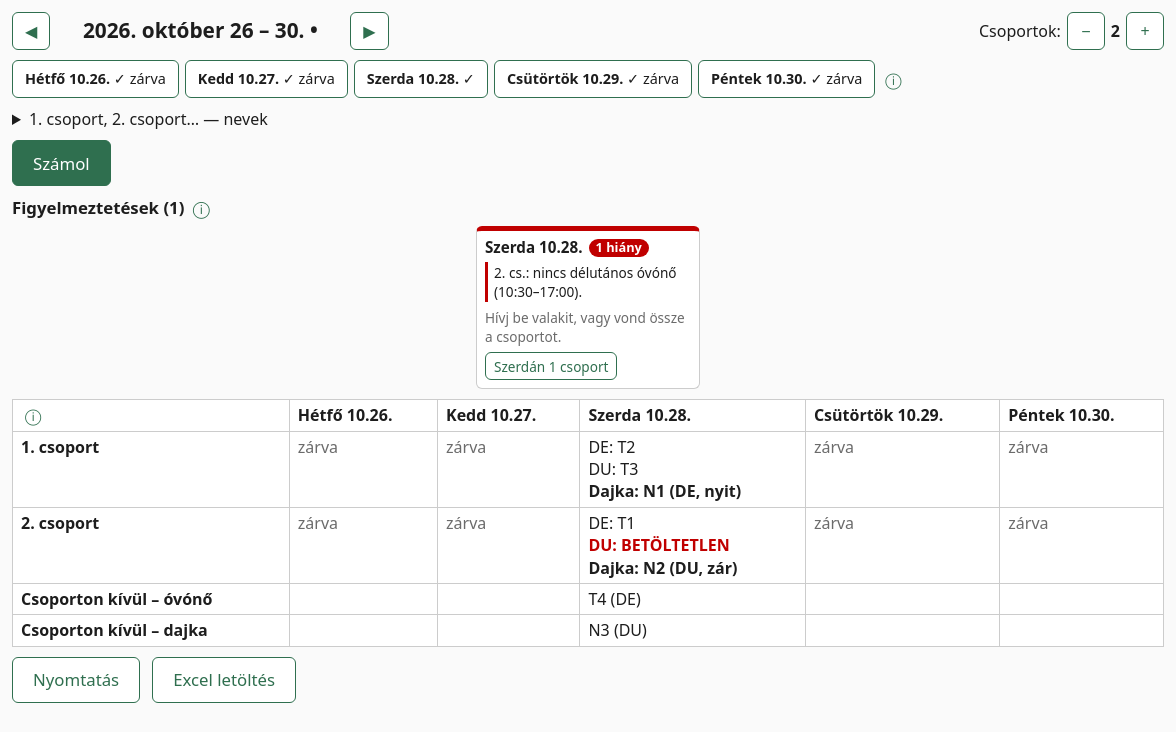
RosterScreen swap › refuses a swap that breaks a rule, and changes nothing
This screenshot has width=1176, height=732.
Step 1. Click the text "Dajka: N1 (DE, nyit)" → (665, 492), box left=588, top=480, right=741, bottom=502
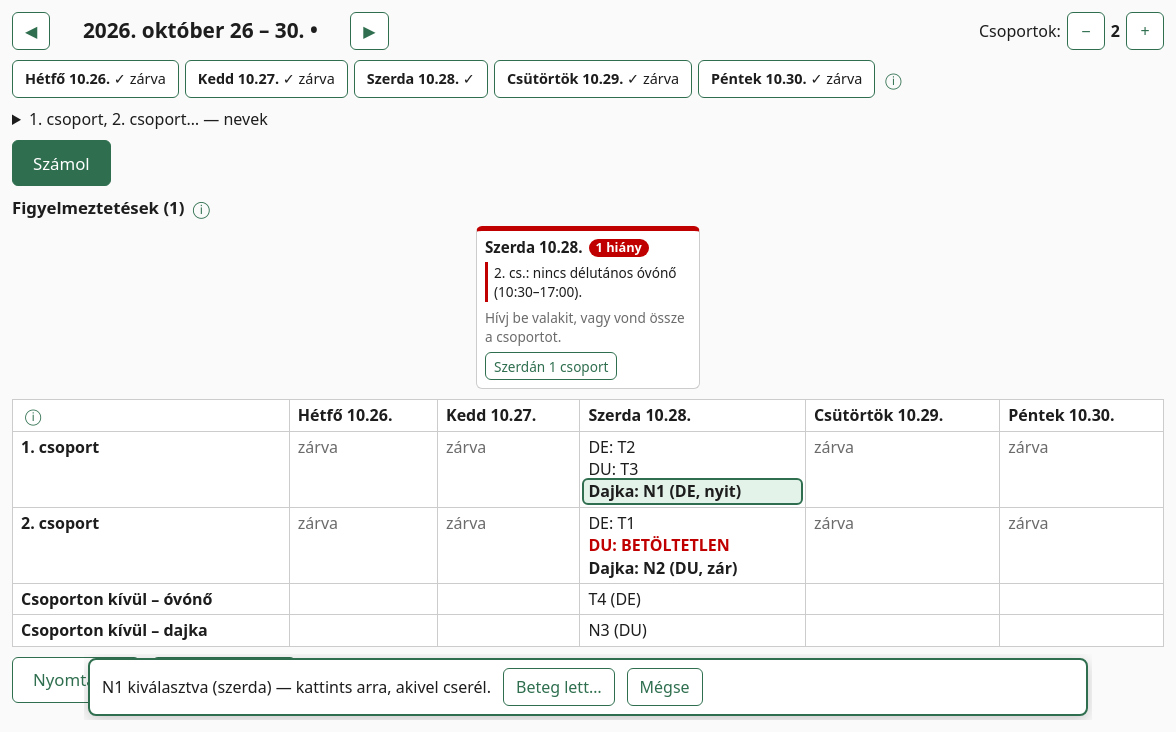
Step 2. Click the text "T4 (DE)" → (615, 599), box left=588, top=588, right=641, bottom=610
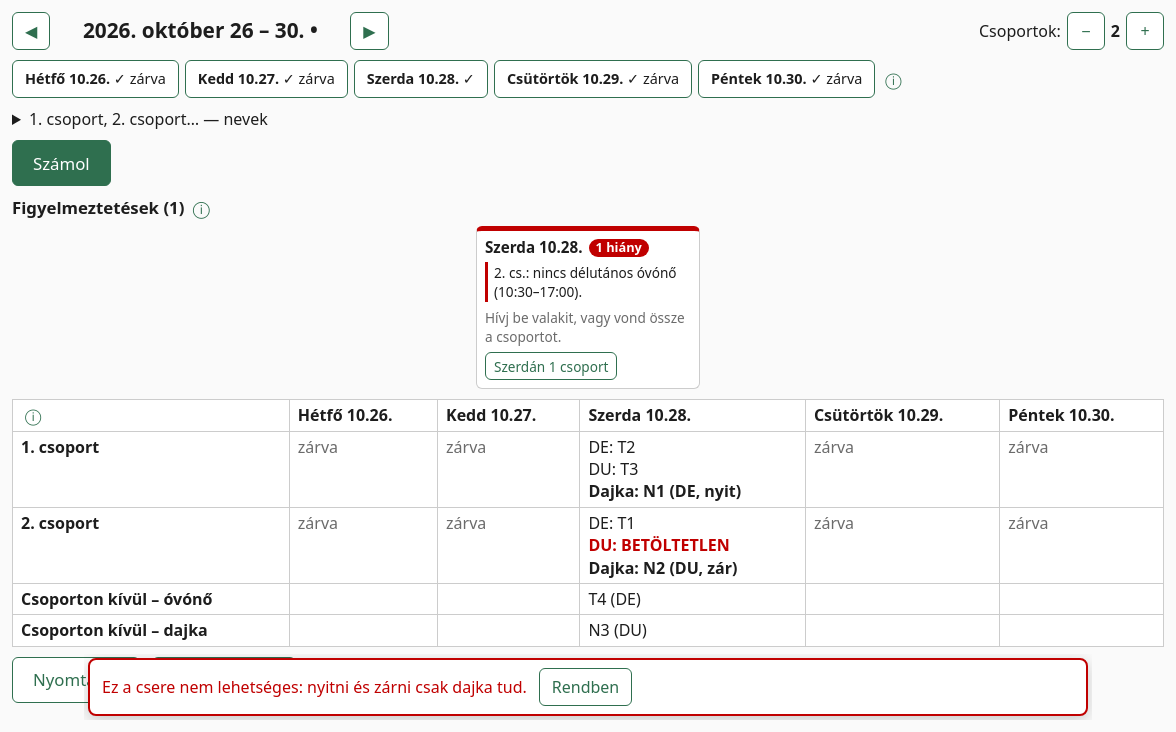
Expected: the text "Dajka: N1 (DE, nyit)" is shown, left=588, top=480, right=741, bottom=502
Now the text "Ez a csere nem lehetséges: nyitni és zárni csak dajka tud." is shown, box left=102, top=676, right=527, bottom=698
